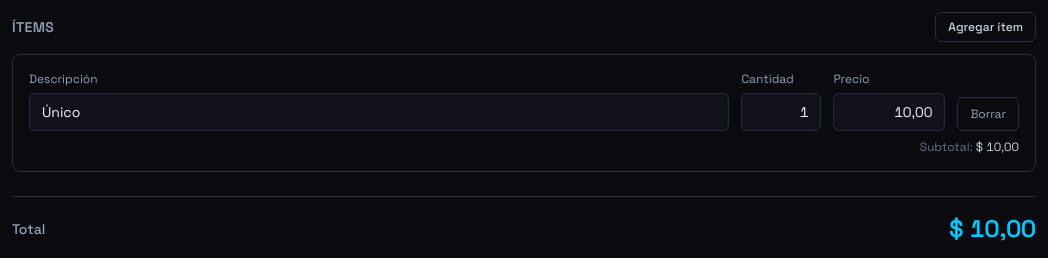
it: ItemsEditor › avisa cuando no queda ninguna fila
Step 1. Click the button with aria-label "Borrar ítem 1" → click(988, 114), box top-left (957, 97), bottom-right (1019, 131)
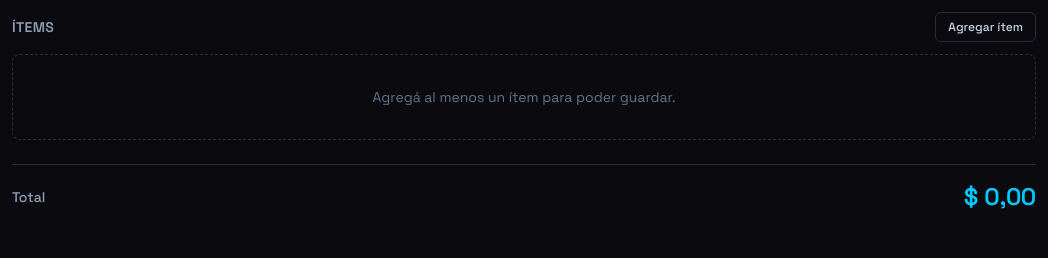
Now the text "Agregá al menos un ítem para poder guardar." is shown, box top-left (12, 54), bottom-right (1036, 140)
